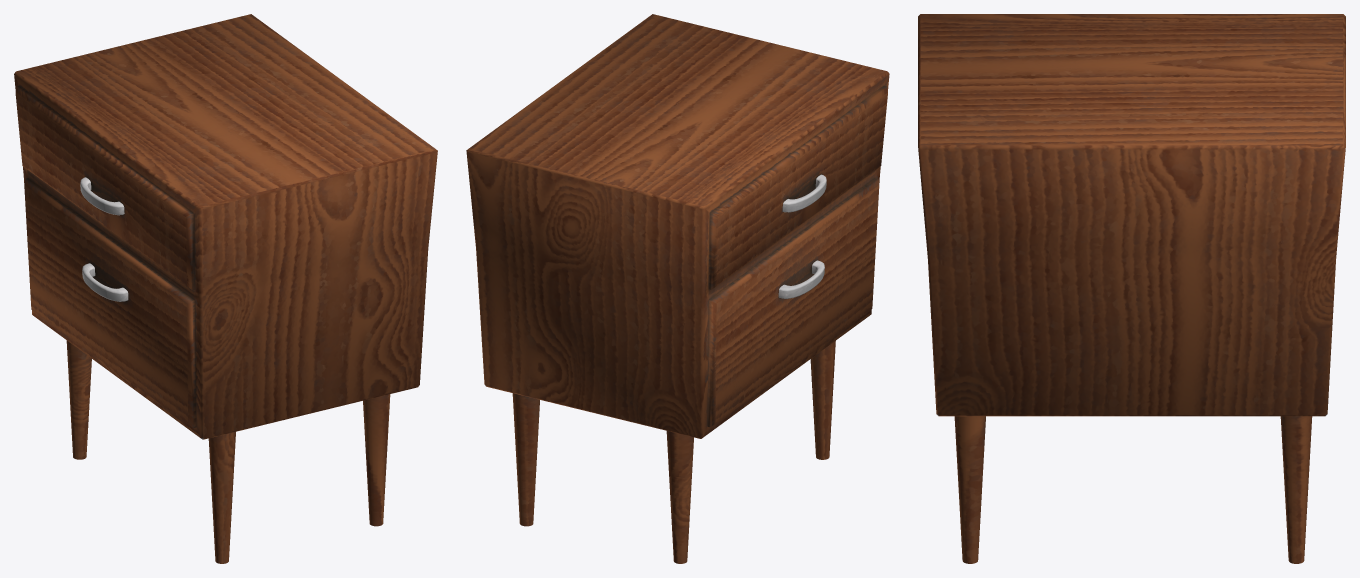
Rendered from SM_TableBasse_01.fbx.
The picture shows the model from 3 angles, left to right: view 1: azimuth 30°, elevation 25°; view 2: azimuth 150°, elevation 25°; view 3: azimuth 270°, elevation 25°; orthographic projection. The views are drawn at different scales.
Parts seen in each view (by area): view 1: SM_TableBasse_01_LOD0; view 2: SM_TableBasse_01_LOD0; view 3: SM_TableBasse_01_LOD0.
Boxes of the visible parts, x1=… form: SM_TableBasse_01_LOD0: x1=14, y1=14, x2=437, y2=563; SM_TableBasse_01_LOD0: x1=466, y1=14, x2=889, y2=563; SM_TableBasse_01_LOD0: x1=918, y1=14, x2=1345, y2=563.
Size of the model in its own units: 59.23 by 74.83 by 84.24.
1 material, 1 textured.
